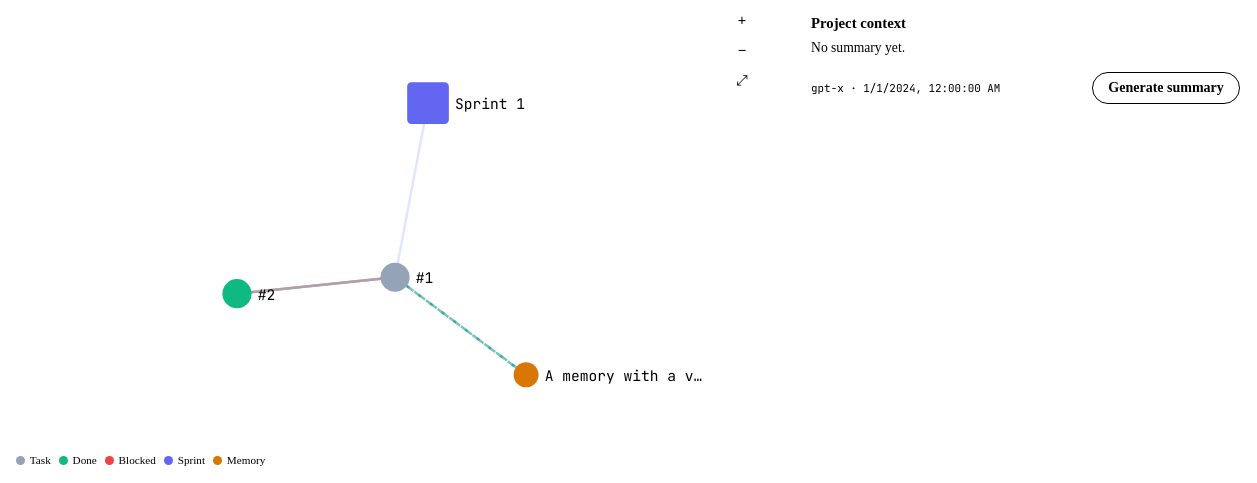
Test: ContextGraphView › regenerates the project summary and surfaces errors
Click the button "Generate summary". click: (1166, 88)
box: 1092,72 -> 1240,104
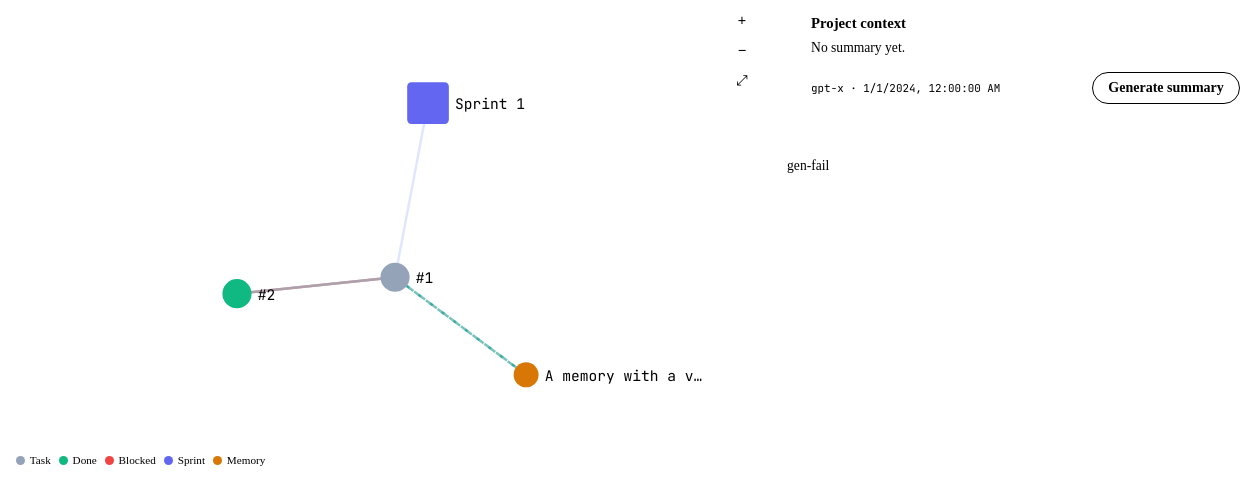
Expected: the text "gen-fail" is shown, 787,158 -> 829,173
